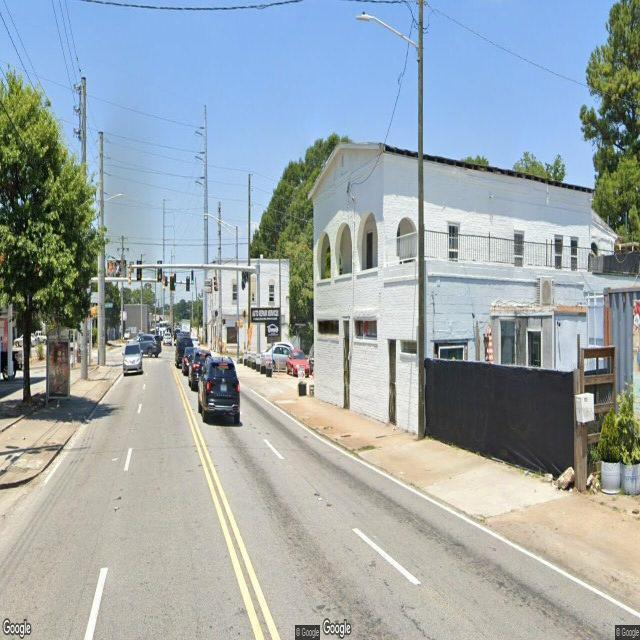shelter: (46, 325, 79, 409)
